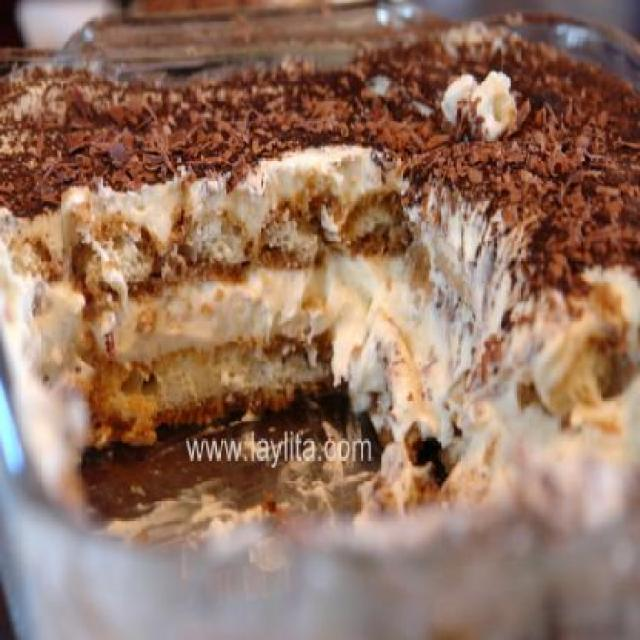Tiramisu: (17, 79, 568, 552)
